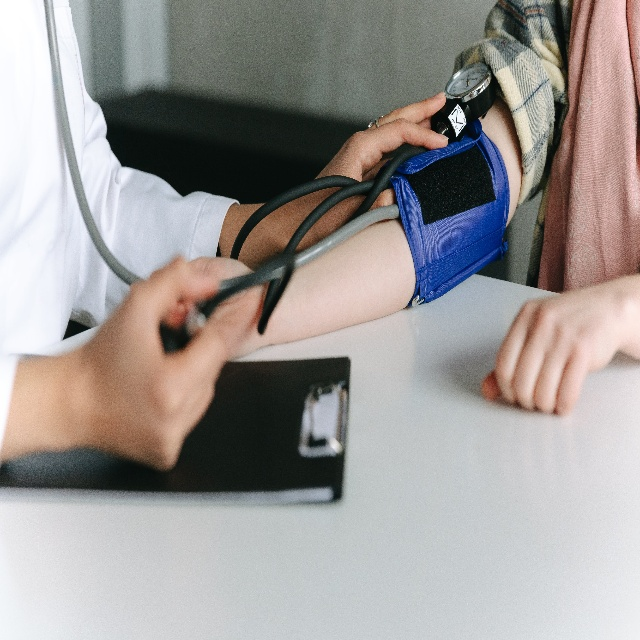Sin_guantes: (86, 255, 231, 464), (283, 89, 449, 252), (479, 272, 621, 417), (125, 256, 267, 368)
